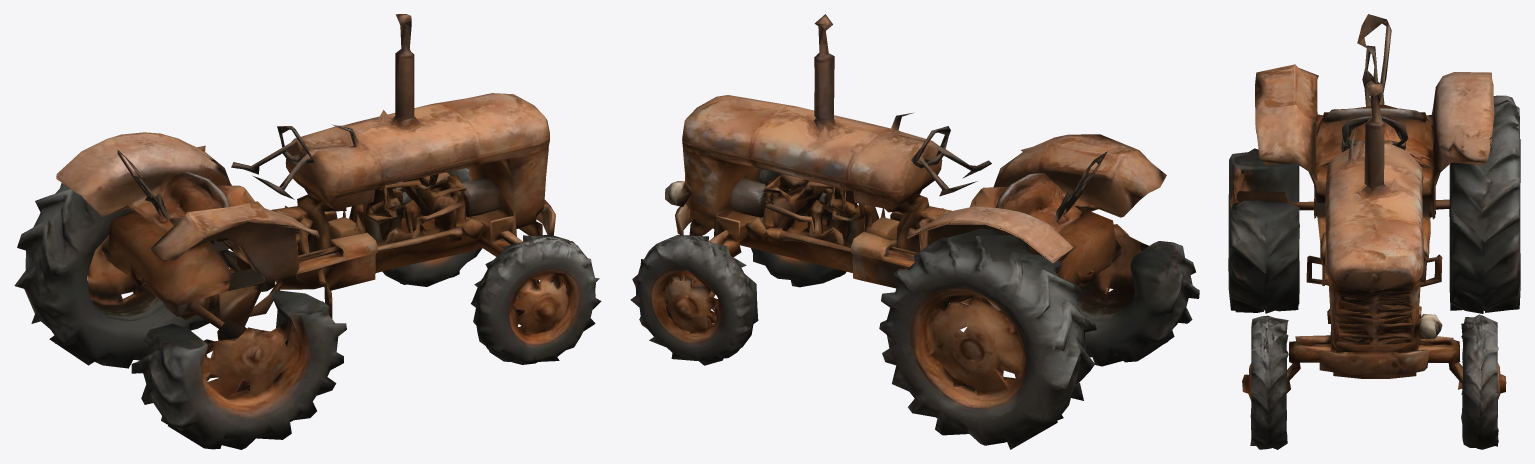
Rendered from ul_tractor.glb.
3 views of the same model, side by side, from view 1: azimuth 30°, elevation 25°; view 2: azimuth 150°, elevation 25°; view 3: azimuth 270°, elevation 25° (orthographic).
Parts seen in each view (by area): view 1: tripo_node_65a08364-c5f7-421f-accd-952b2edb2a1f; view 2: tripo_node_65a08364-c5f7-421f-accd-952b2edb2a1f; view 3: tripo_node_65a08364-c5f7-421f-accd-952b2edb2a1f.
Boxes of the visible parts, <box> form: tripo_node_65a08364-c5f7-421f-accd-952b2edb2a1f: <box>14,14,601,449</box>; tripo_node_65a08364-c5f7-421f-accd-952b2edb2a1f: <box>630,14,1199,449</box>; tripo_node_65a08364-c5f7-421f-accd-952b2edb2a1f: <box>1228,14,1520,449</box>.
Size of the model in its own units: 1 by 0.6868 by 0.5637.
1 material, 1 textured.
